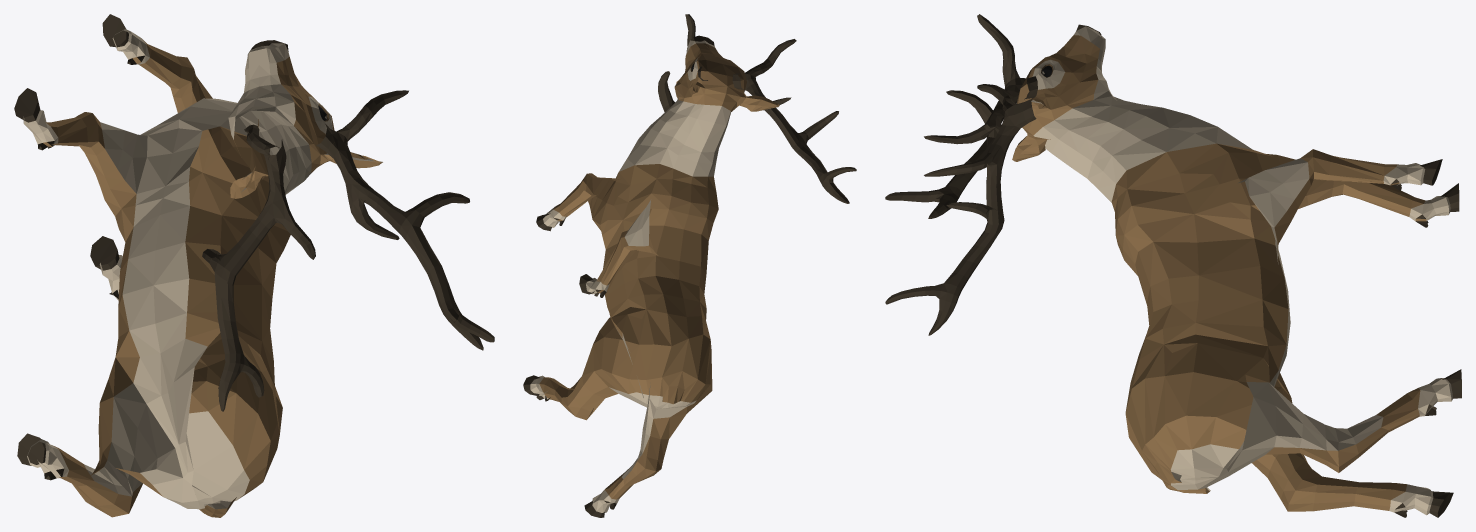
The model's file is stag-walk-2.glb.
3 renders of one model, left to right at view 1: azimuth 30°, elevation 25°; view 2: azimuth 150°, elevation 25°; view 3: azimuth 270°, elevation 25°, orthographic. The views are drawn at different scales.
Size of the model in its own units: 0.865 by 1.75 by 1.81.
